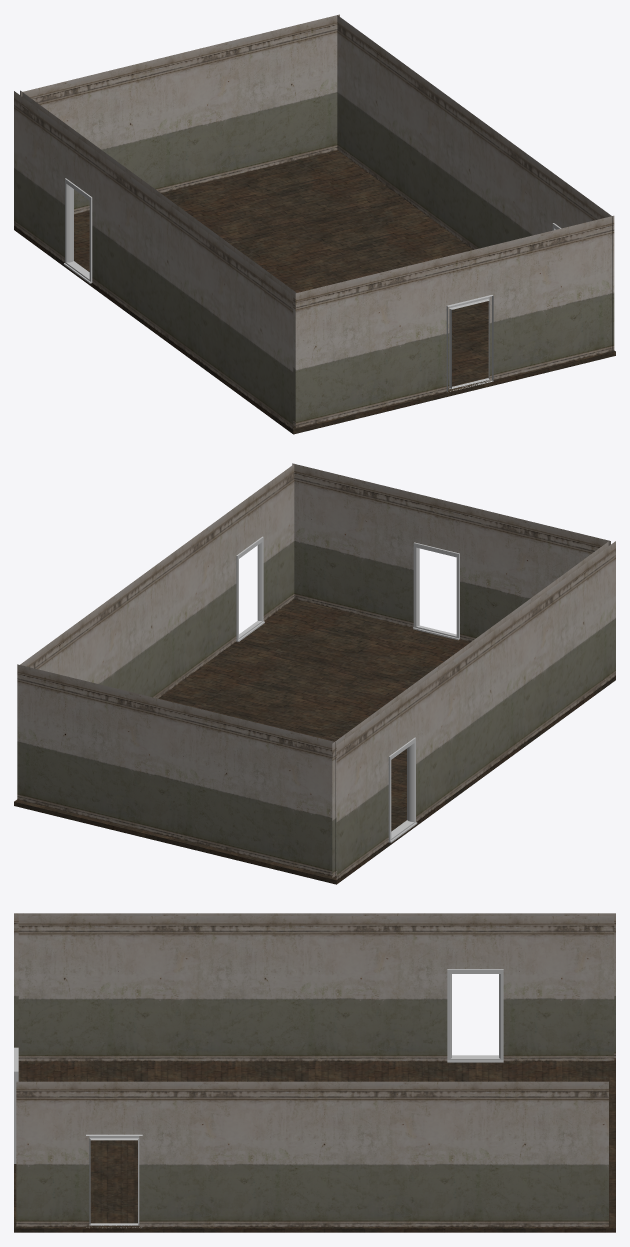
The model's file is room_15m_x_10m_door_right_back.fbx.
The picture shows the model from 3 angles, top to bottom: view 1: azimuth 30°, elevation 25°; view 2: azimuth 150°, elevation 25°; view 3: azimuth 270°, elevation 25°; orthographic projection. The views are drawn at different scales.
Parts seen in each view (by area): view 1: room_15m_x_10m_door_right_back; view 2: room_15m_x_10m_door_right_back; view 3: room_15m_x_10m_door_right_back.
Part boxes in pixels (x1,y1,x2,y2): room_15m_x_10m_door_right_back: (14, 14, 615, 434); room_15m_x_10m_door_right_back: (14, 463, 615, 884); room_15m_x_10m_door_right_back: (14, 913, 615, 1232).
Bounding box in the file's own units: 1008 × 412 × 1500.
